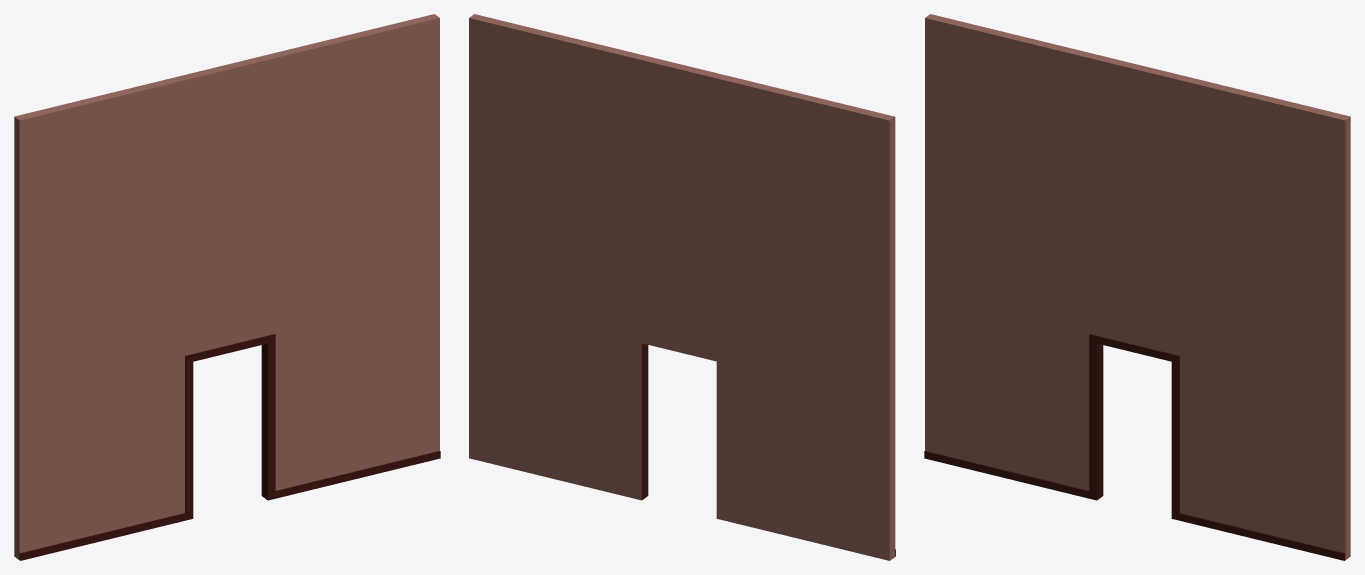
File: FinCouloir.fbx
3 views of the same model, side by side, from view 1: azimuth 30°, elevation 25°; view 2: azimuth 150°, elevation 25°; view 3: azimuth 330°, elevation 25° (orthographic).
Parts seen in each view (by area): view 1: FinCouloir; view 2: FinCouloir; view 3: FinCouloir.
Part boxes in pixels (x1,y1,x2,y2): FinCouloir: [14, 14, 440, 560]; FinCouloir: [469, 14, 895, 560]; FinCouloir: [924, 14, 1350, 560].
Size of the model in its own units: 600 by 600 by 15.31.
